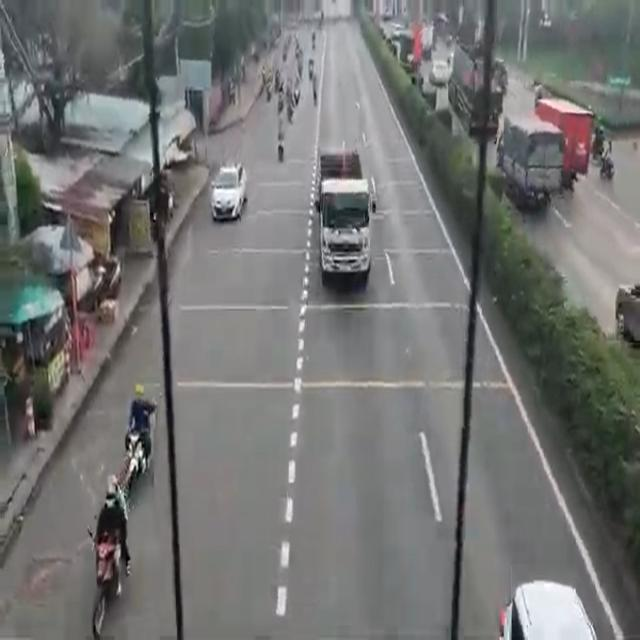car: (214, 157, 246, 233)
motor: (90, 481, 122, 638), (126, 378, 152, 481)
truck: (316, 149, 369, 289), (500, 115, 560, 210), (456, 42, 496, 137)
